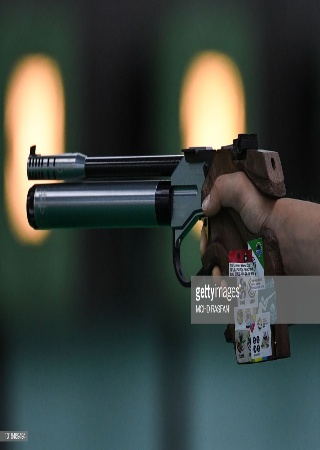handgun: (23, 134, 293, 362)
